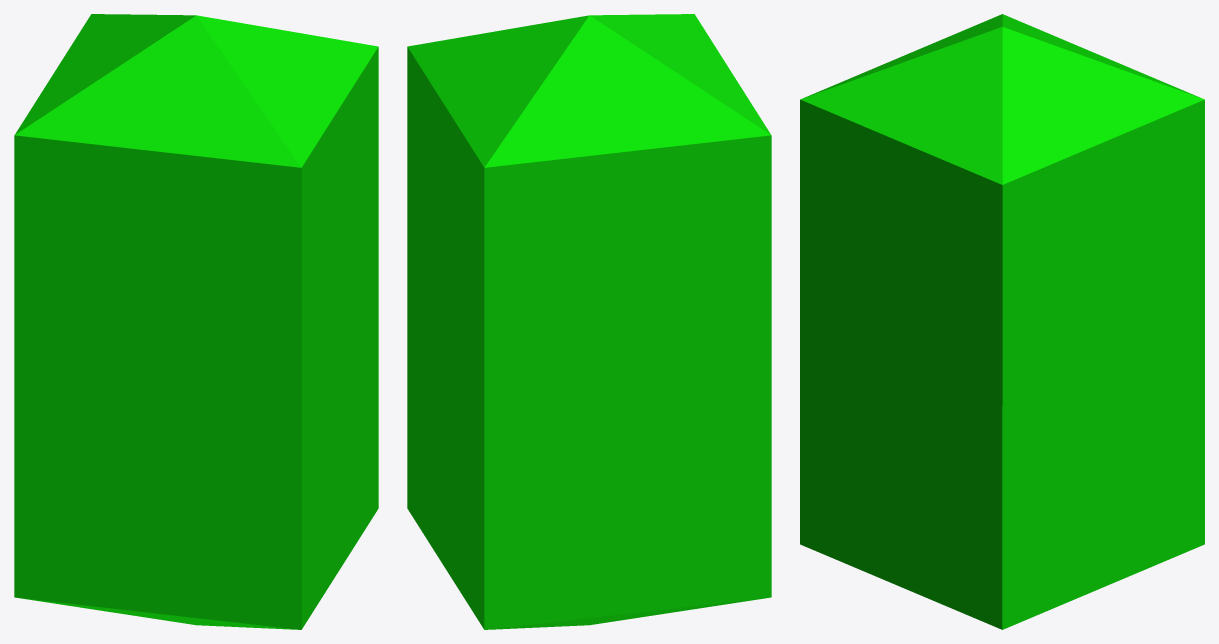
Rendered from Barrier.fbx.
3 renders of one model, left to right at view 1: azimuth 30°, elevation 25°; view 2: azimuth 150°, elevation 25°; view 3: azimuth 270°, elevation 25°, orthographic. The views are drawn at different scales.
Visible parts, largest first — view 1: Cube; view 2: Cube; view 3: Cube.
Part boxes in pixels (x1,y1,x2,y2): Cube: (14, 14, 378, 629); Cube: (407, 14, 771, 629); Cube: (800, 14, 1204, 629).
Size of the model in its own units: 8.49 by 13.58 by 8.49.
